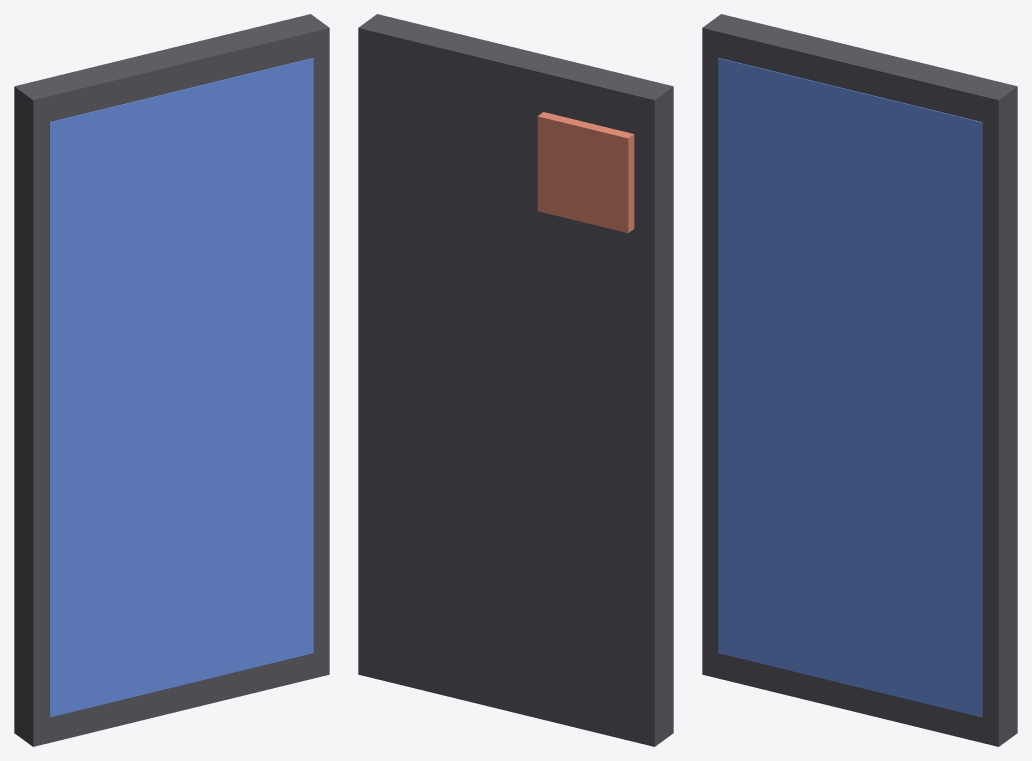
Rendered from spin.glb.
The picture shows the model from 3 angles, left to right: view 1: azimuth 30°, elevation 25°; view 2: azimuth 150°, elevation 25°; view 3: azimuth 330°, elevation 25°; orthographic projection.
Parts seen in each view (by area): view 1: screen, body; view 2: body, camera; view 3: screen, body.
Boxes of the visible parts, x1,y1,x2,y2 form: screen: (49, 58, 313, 717); body: (14, 14, 329, 746); body: (358, 14, 673, 746); camera: (537, 112, 634, 232); screen: (718, 58, 982, 717); body: (702, 14, 1017, 746).
Size of the model in its own units: 0.72 by 1.5 by 0.107.
